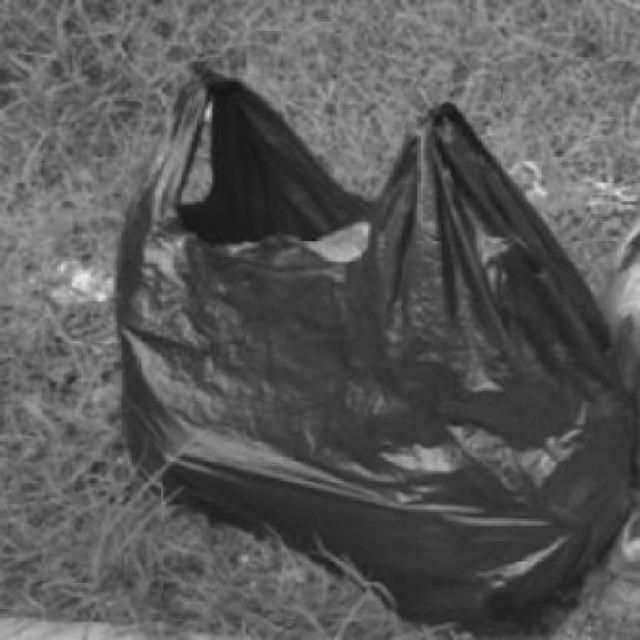Trashbag: (102, 59, 630, 625)
